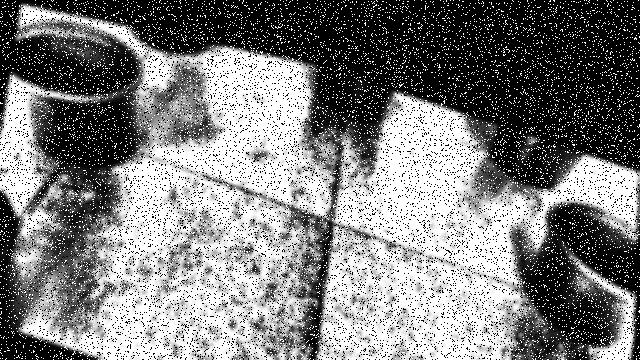pot: (8, 17, 144, 166), (522, 199, 637, 346)
